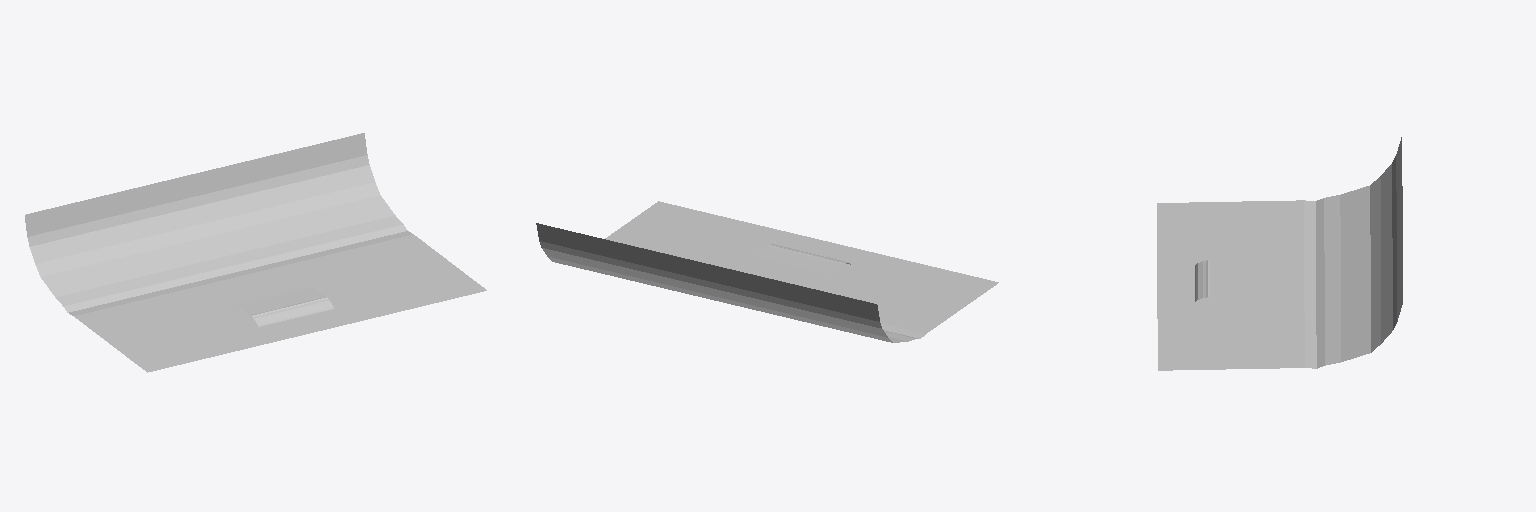
File: demo2.obj
3 views of the same model, side by side, from view 1: azimuth 30°, elevation 25°; view 2: azimuth 150°, elevation 25°; view 3: azimuth 270°, elevation 25° (orthographic).
Parts seen in each view (by area): view 1: Plane, Plane.001; view 2: Plane, Plane.001; view 3: Plane, Plane.001.
Part boxes in pixels (bbox=[...]): Plane: bbox=[25, 133, 486, 372]; Plane.001: bbox=[237, 287, 333, 326]; Plane: bbox=[536, 201, 998, 342]; Plane.001: bbox=[754, 244, 850, 273]; Plane: bbox=[1157, 137, 1402, 370]; Plane.001: bbox=[1195, 260, 1238, 301].
Bounding box in the file's own units: 126 × 26.82 × 78.67.